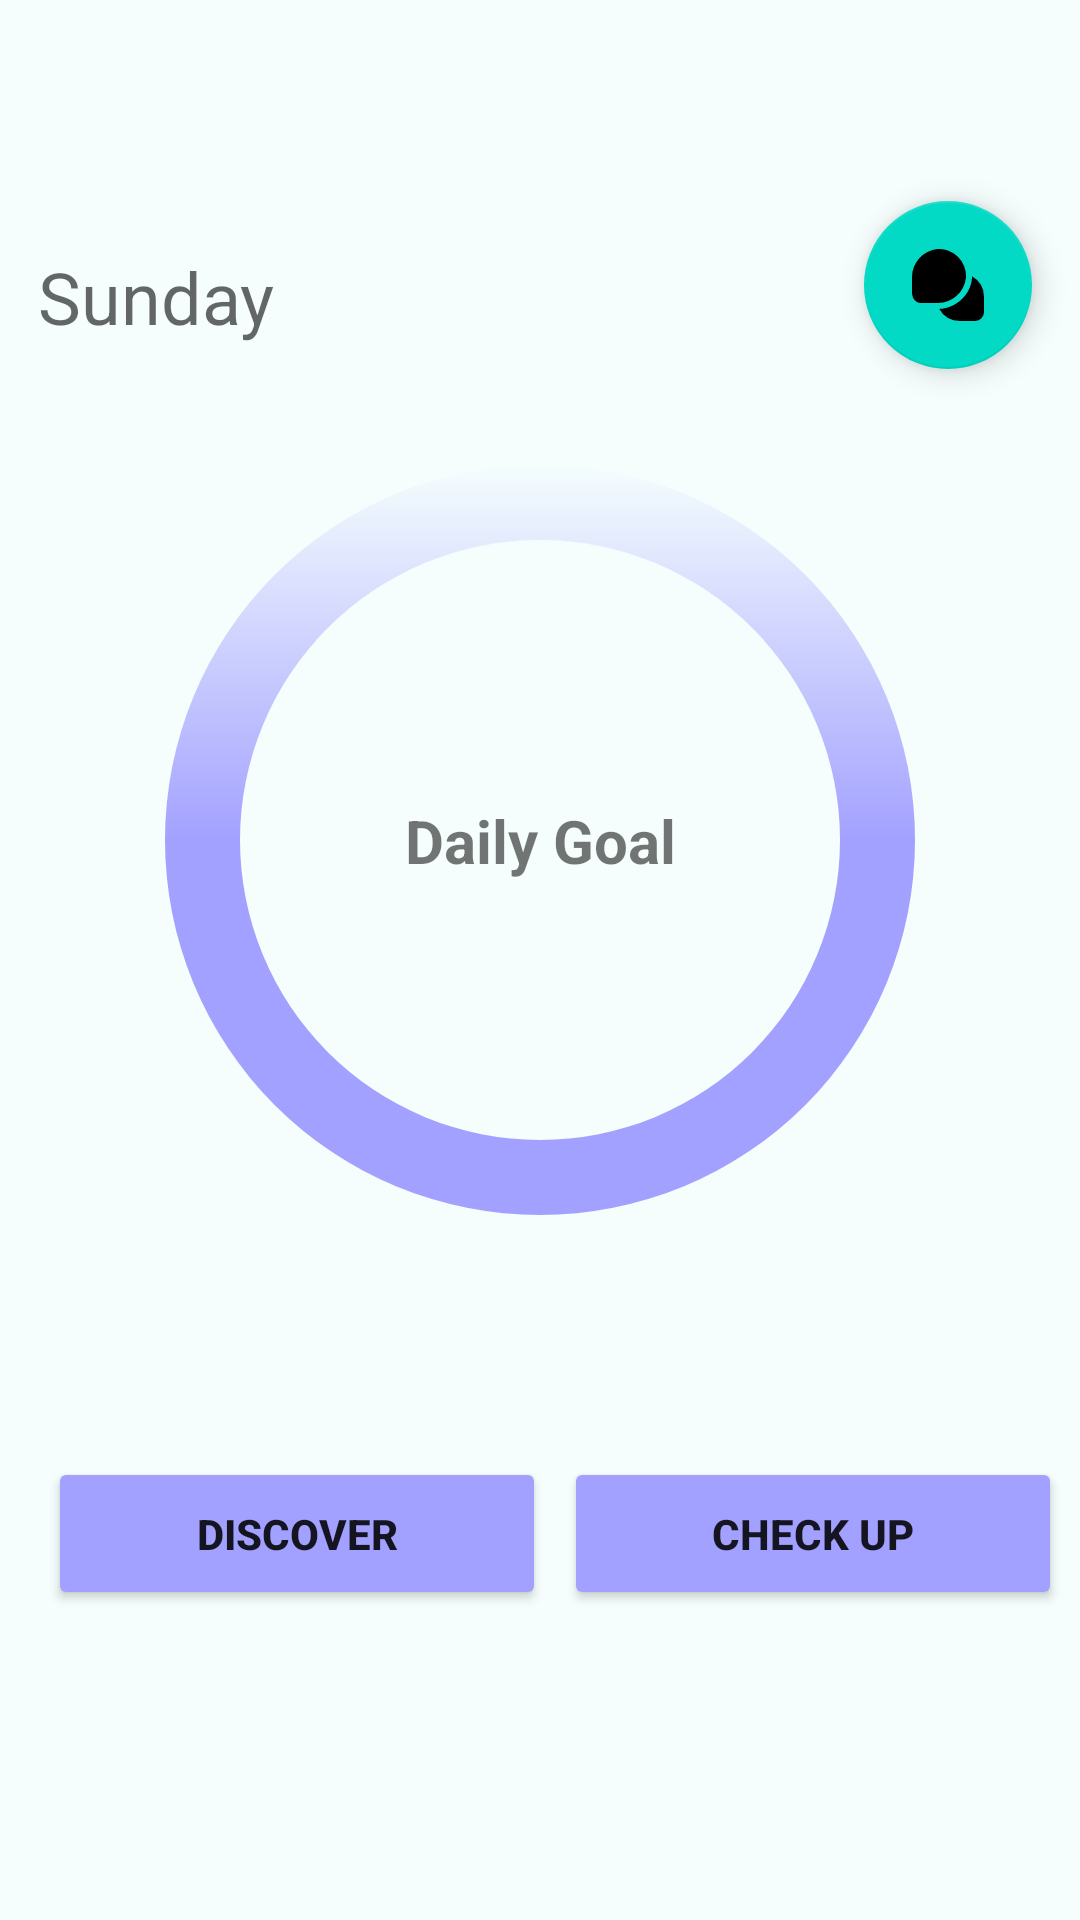

Screen size 1080*1920. Icon name, then its center in pixels as (x=x, y=y):
chat: (x=948, y=285)
